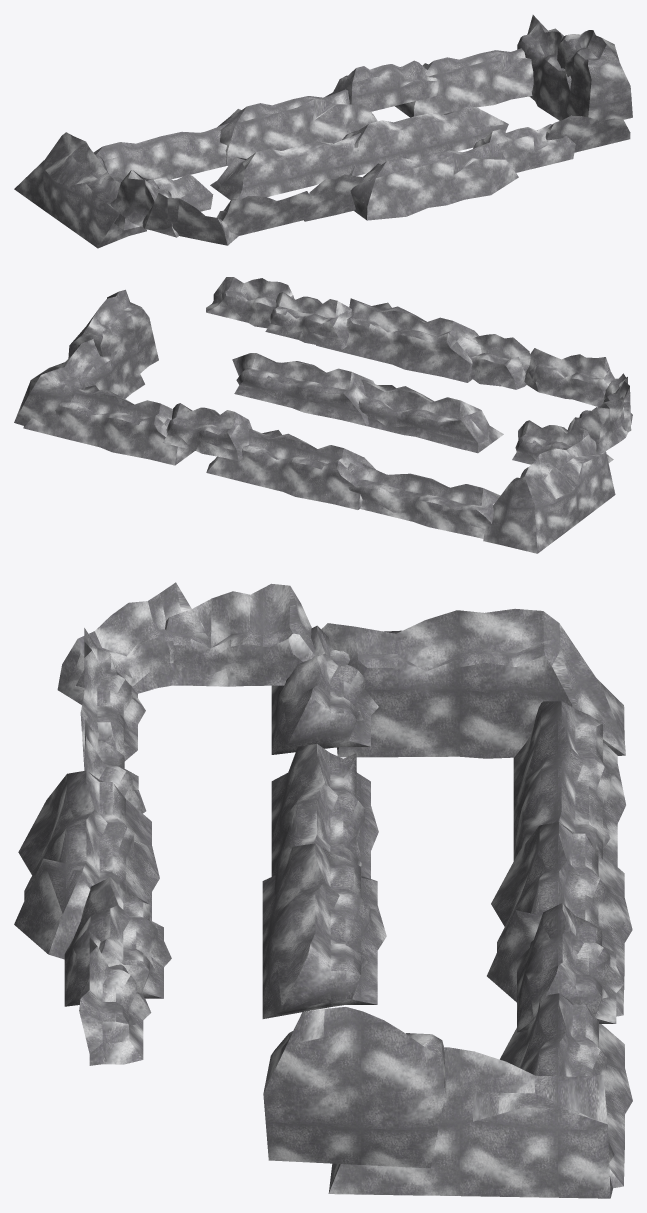
The model's file is Mountains.FBX.
3 views of the same model, one above another, from view 1: azimuth 30°, elevation 25°; view 2: azimuth 150°, elevation 25°; view 3: azimuth 270°, elevation 25° (orthographic). The views are drawn at different scales.
Parts seen in each view (by area): view 1: MountainT1; view 2: MountainT1; view 3: MountainT1.
Part boxes in pixels (bbox=[...]): MountainT1: bbox=[14, 15, 632, 248]; MountainT1: bbox=[14, 277, 632, 553]; MountainT1: bbox=[14, 582, 632, 1198].
Bounding box in the file's own units: 1185 × 181 × 629.
1 material, 1 textured.
